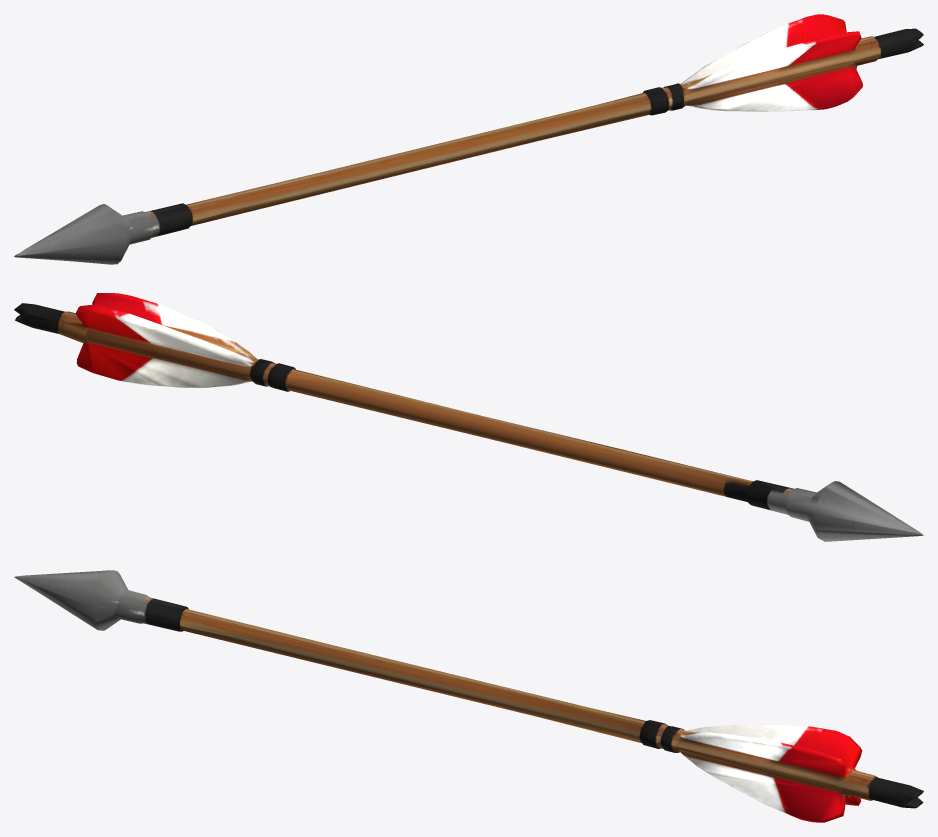
The model's file is Common.glb.
3 renders of one model, top to bottom at view 1: azimuth 30°, elevation 25°; view 2: azimuth 150°, elevation 25°; view 3: azimuth 330°, elevation 25°, orthographic.
Visible parts, largest first — view 1: Mesh_0; view 2: Mesh_0; view 3: Mesh_0.
Part boxes in pixels (x1,y1,x2,y2): Mesh_0: (14, 14, 923, 264); Mesh_0: (14, 293, 923, 541); Mesh_0: (14, 570, 923, 822).
Bounding box in the file's own units: 1.91 × 0.151 × 0.1172.
Materials: 1 (1 with a texture image).
